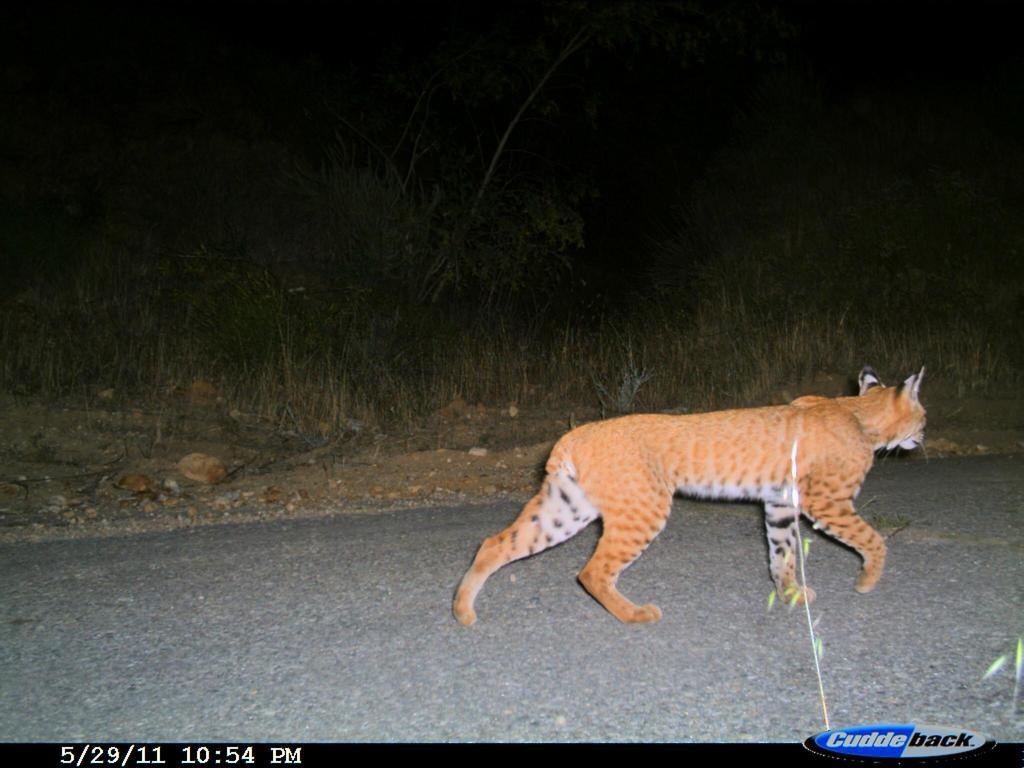bobcat: (432, 335, 936, 634)
